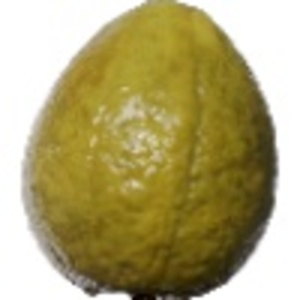goiaba: (13, 3, 285, 293)
